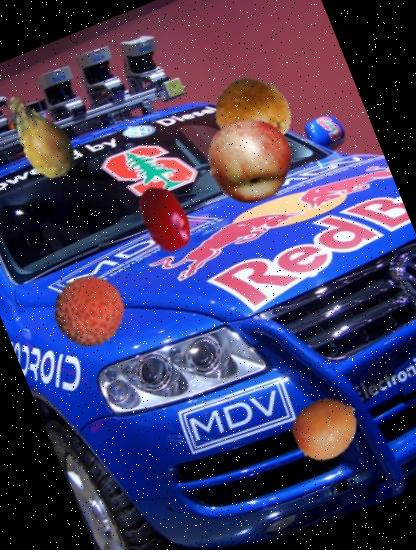Apricot: (281, 384, 368, 472)
Cactus: (0, 73, 102, 198)
Kiwi: (202, 61, 304, 163)
Lychee: (41, 264, 137, 360)
Nectarine: (195, 104, 307, 216)
Tomato: (119, 172, 211, 264)
